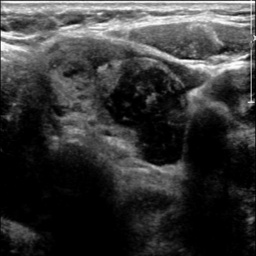mass: (102, 64, 189, 171)
